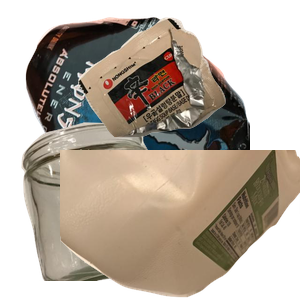glass: (19, 120, 184, 300)
metal: (23, 15, 263, 195)
plastic: (60, 150, 300, 300)
trash: (76, 15, 300, 145)
